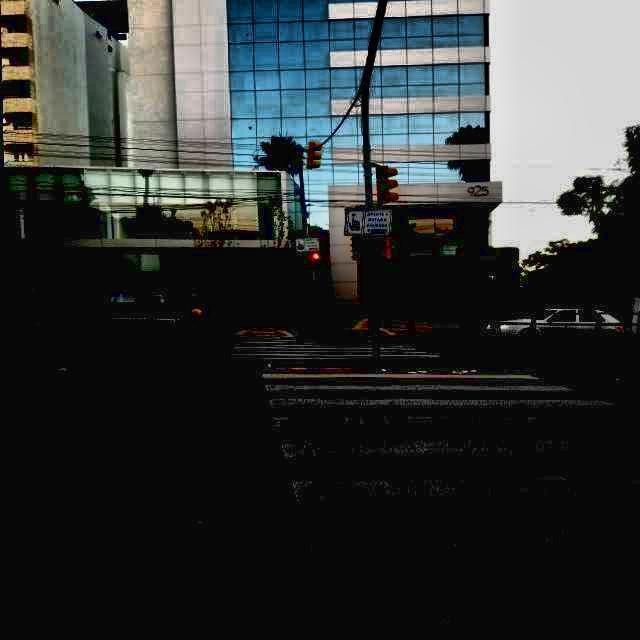faixa de pedestre: (248, 330, 630, 541)
